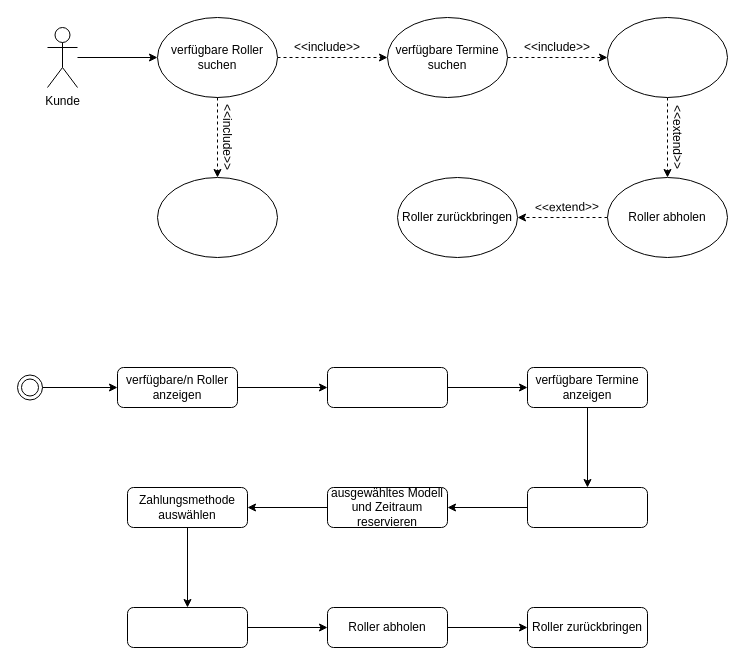
Some shapes in this 745 by 665 pixel diagram are drawn without their labels. Each missing label, with the centre of its shape:
"verfügbare Roller anzeigen" belongs at (x=217, y=217).
"verfügbare/n Roller auswählen" belongs at (x=387, y=387).
"verfügbaren Termin auswählen" belongs at (x=587, y=507).
"Zahlung tätigen" belongs at (x=187, y=627).
"Zahlungspflichtig Reservieren" belongs at (x=667, y=57).
